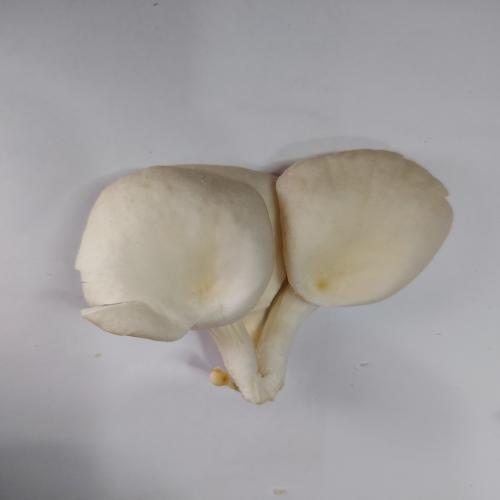Oyster Mushroom: (74, 147, 454, 405)
